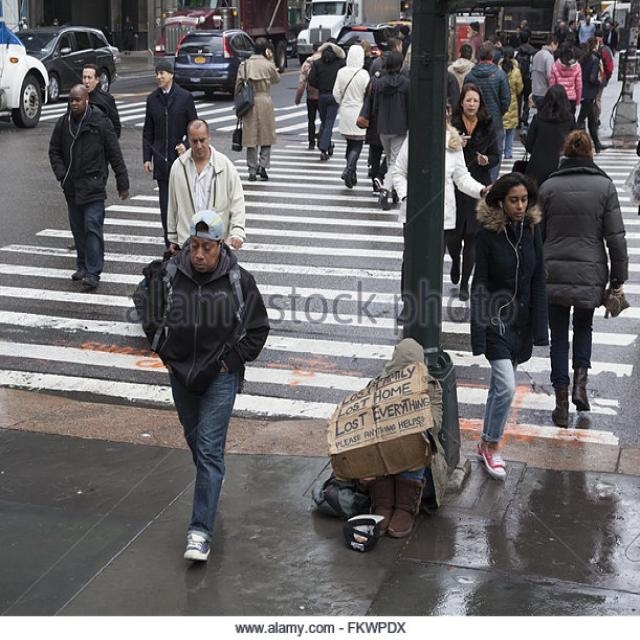body: (130, 206, 273, 564), (533, 125, 633, 432), (460, 428, 623, 616), (466, 167, 552, 481), (391, 103, 493, 326), (45, 80, 131, 292), (371, 335, 450, 538), (443, 80, 502, 302), (166, 116, 248, 256), (141, 59, 200, 252), (228, 34, 282, 182), (460, 41, 512, 188), (372, 47, 414, 211), (512, 83, 577, 187), (366, 36, 412, 179), (331, 42, 373, 190), (354, 54, 389, 195), (573, 33, 611, 154), (491, 14, 619, 49), (293, 40, 327, 152), (495, 44, 525, 160), (80, 62, 121, 140), (509, 30, 540, 132), (548, 39, 584, 115), (530, 34, 560, 112), (593, 27, 615, 127), (445, 43, 478, 96), (620, 135, 640, 217), (100, 14, 134, 57), (373, 23, 412, 58), (443, 69, 461, 127), (315, 37, 347, 60), (465, 19, 483, 52), (51, 18, 60, 26)
